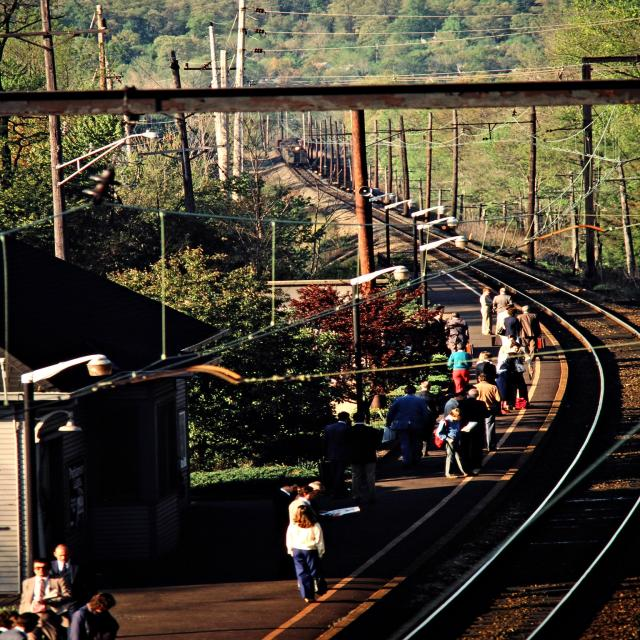body: (11, 554, 68, 640), (285, 503, 328, 602), (383, 383, 429, 468), (344, 412, 384, 504), (432, 408, 481, 479), (269, 478, 300, 568), (496, 341, 536, 409), (67, 591, 120, 640), (472, 372, 502, 452), (455, 388, 486, 459), (321, 411, 354, 472), (293, 480, 340, 519), (414, 381, 438, 457), (516, 305, 542, 361), (45, 543, 75, 590), (447, 342, 473, 394), (0, 608, 43, 639), (500, 353, 522, 410), (444, 311, 470, 354), (288, 485, 315, 523), (492, 288, 513, 336), (478, 286, 496, 336), (477, 353, 501, 390), (429, 309, 447, 356), (517, 355, 533, 407), (496, 334, 522, 365), (443, 391, 468, 420), (504, 307, 520, 345), (434, 305, 448, 346), (495, 303, 510, 340), (475, 350, 493, 366)
